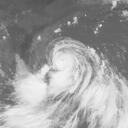cyclone: (49, 38, 93, 94)
